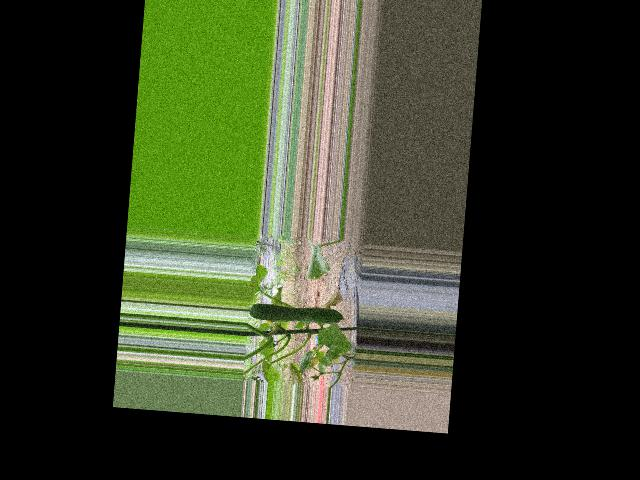cucumber: (249, 301, 346, 326)
